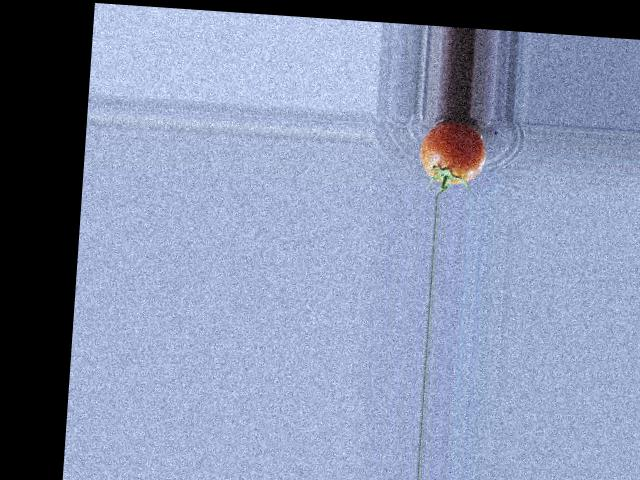tomato: (418, 118, 487, 185)
